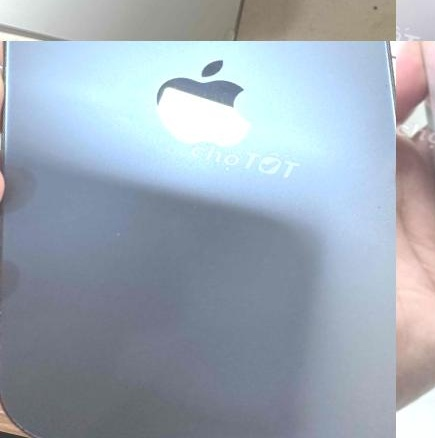scratch: (106, 223, 129, 242), (370, 199, 390, 216), (184, 199, 202, 211)
